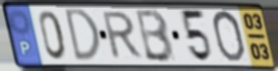0: (38, 10, 68, 61)
5: (176, 8, 213, 64)
B: (134, 7, 176, 64)
D: (63, 7, 103, 64)
O: (210, 8, 247, 63)
R: (101, 10, 145, 61)
